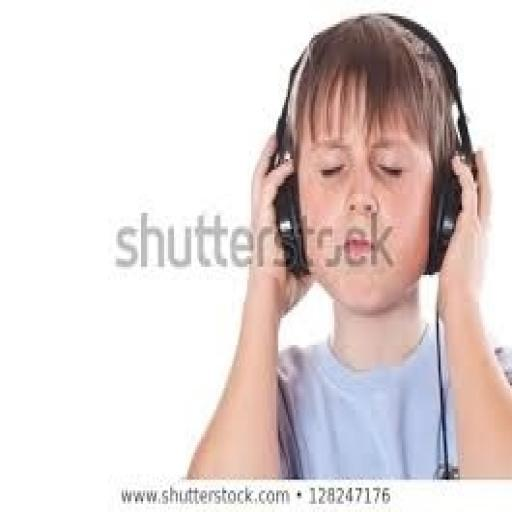listening_to_music: (184, 8, 510, 480)
